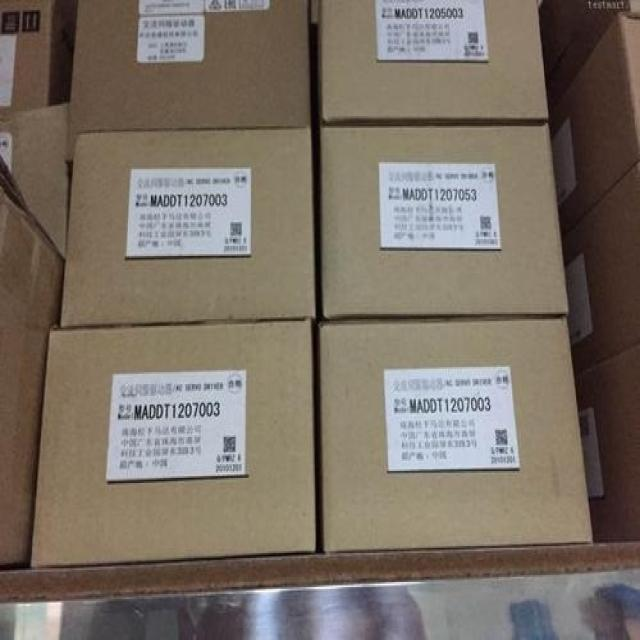box: (29, 317, 321, 568), (320, 314, 593, 551), (60, 126, 320, 328), (315, 123, 568, 321), (67, 0, 315, 162), (312, 0, 547, 123), (0, 154, 64, 561), (549, 10, 640, 239), (561, 160, 639, 382), (575, 345, 637, 541), (0, 102, 68, 263), (0, 0, 74, 118)
